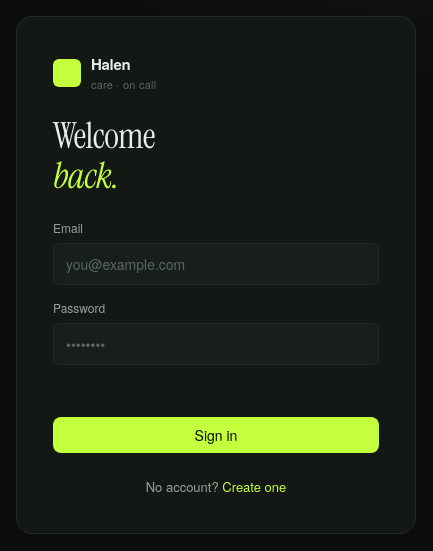
LoginPage › shows an error message when login fails
Type "bad@test.com" into the field with placeholder "you@example.com".
click(216, 264); type("bad@test.com")  # box [53,243,379,285]
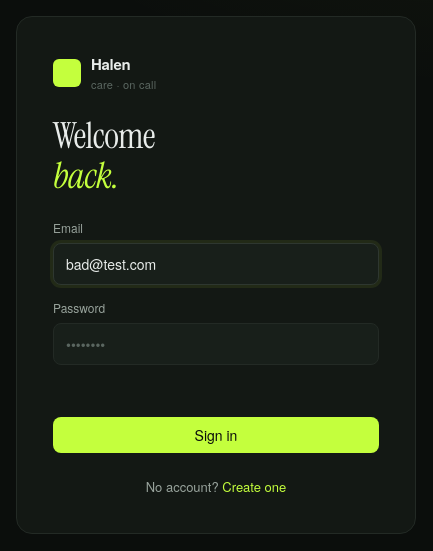
Type "wrongpass" into the password field with placeholder "••••••••".
click(216, 344); type("wrongpass")  # box [53,323,379,365]
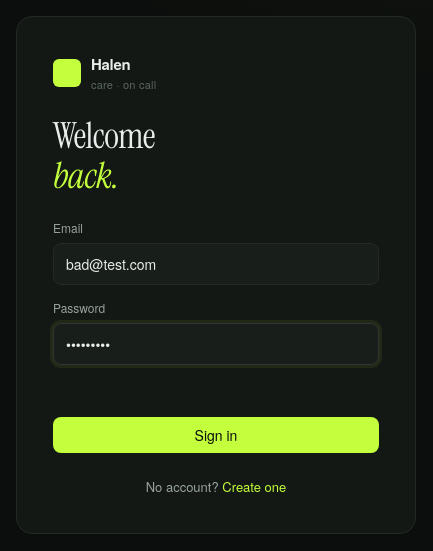
Click the button "Sign in".
click(216, 435)  # box [53,417,379,453]
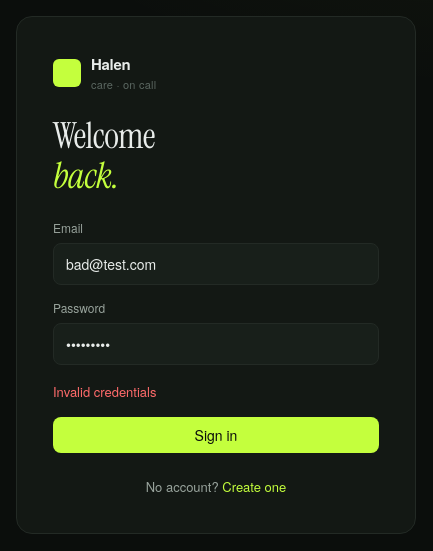
Expected: the text "Invalid credentials" is shown, [53,382,156,401]
